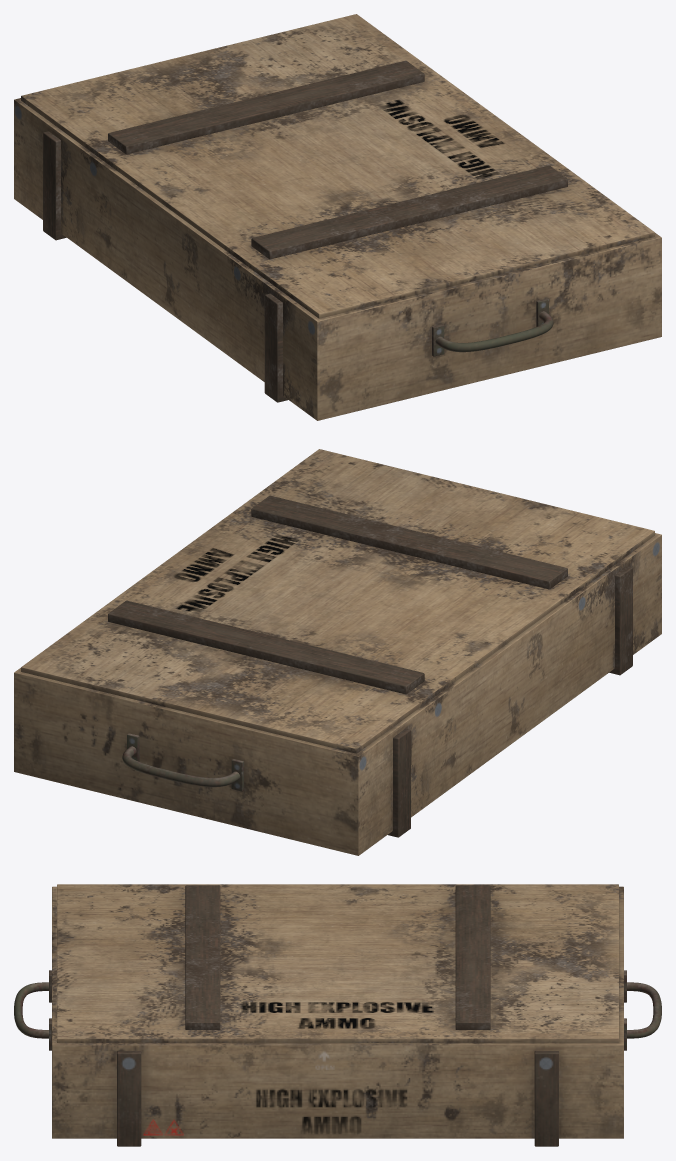
The model's file is anubis_military_ammo_crate_realista.glb.
3 renders of one model, top to bottom at view 1: azimuth 30°, elevation 25°; view 2: azimuth 150°, elevation 25°; view 3: azimuth 270°, elevation 25°, orthographic. The views are drawn at different scales.
Parts seen in each view (by area): view 1: Object_3, Object_2, Object_6, Object_7, Object_4; view 2: Object_3, Object_2, Object_6, Object_7, Object_4; view 3: Object_3, Object_2, Object_6, Object_7, Object_4, Object_5.
Part boxes in pixels (bbox=[...]): Object_3: bbox=[21, 14, 654, 318]; Object_2: bbox=[14, 98, 661, 420]; Object_6: bbox=[108, 60, 567, 259]; Object_7: bbox=[43, 131, 287, 402]; Object_4: bbox=[435, 311, 553, 352]; Object_3: bbox=[21, 449, 654, 753]; Object_2: bbox=[14, 533, 661, 855]; Object_6: bbox=[108, 495, 567, 694]; Object_7: bbox=[388, 566, 632, 837]; Object_4: bbox=[122, 746, 240, 787]; Object_3: bbox=[57, 884, 618, 1042]; Object_2: bbox=[52, 886, 623, 1138]; Object_6: bbox=[185, 885, 490, 1029]; Object_7: bbox=[117, 1051, 558, 1146]; Object_4: bbox=[14, 982, 661, 1038]; Object_5: bbox=[49, 970, 626, 1050].
Size of the model in its own units: 2.76 by 0.8739 by 4.61.
Materials: 6 (6 with a texture image).
